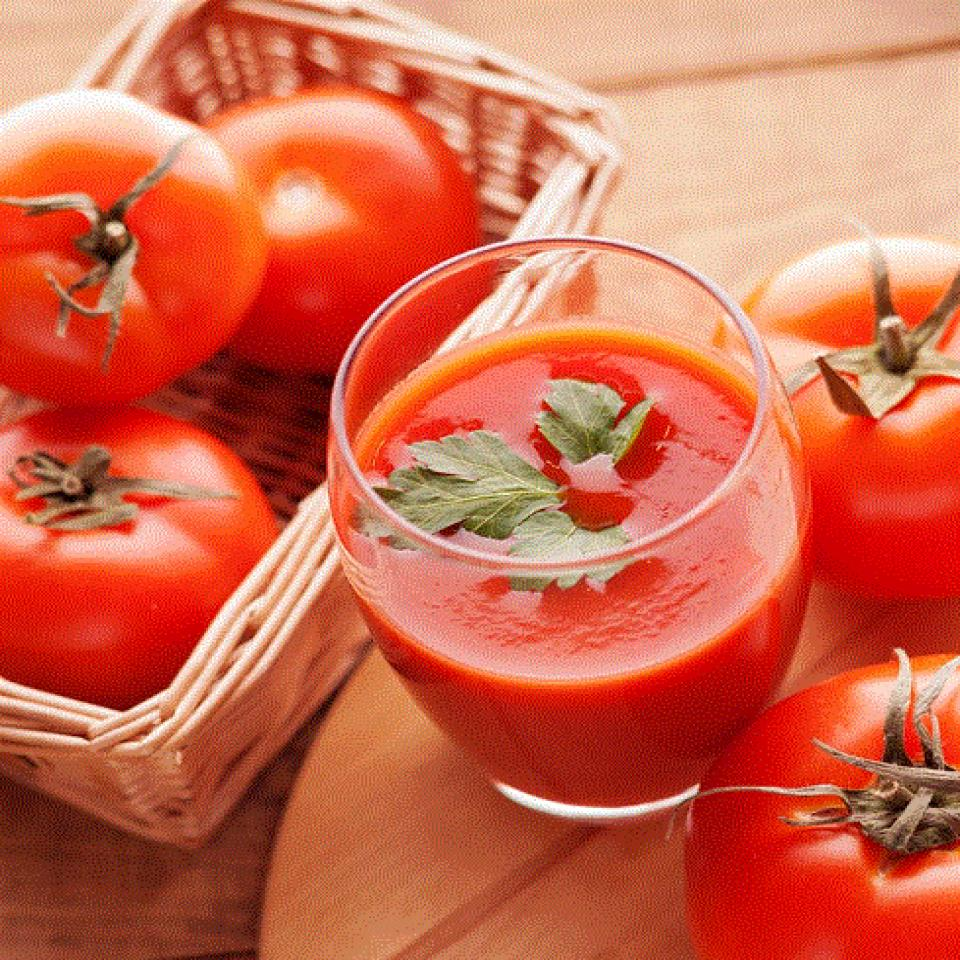Healthy: (182, 65, 496, 320), (5, 90, 237, 415), (768, 208, 958, 577), (0, 391, 255, 665), (689, 713, 960, 960)
